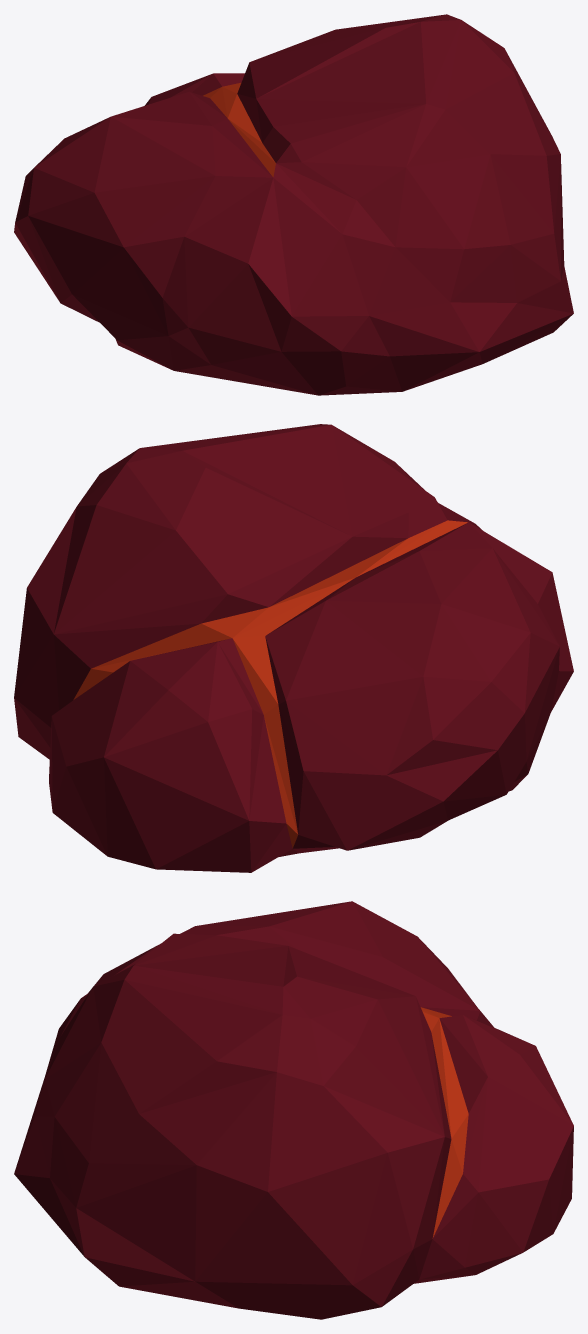
The model's file is goldenOre3-0.fbx.
The picture shows the model from 3 angles, top to bottom: view 1: azimuth 30°, elevation 25°; view 2: azimuth 150°, elevation 25°; view 3: azimuth 270°, elevation 25°; orthographic projection. The views are drawn at different scales.
Parts seen in each view (by area): view 1: Icosphere; view 2: Icosphere; view 3: Icosphere.
Boxes of the visible parts, box(x1,y1,x2,y2) form: Icosphere: box(14, 14, 573, 395); Icosphere: box(14, 424, 573, 872); Icosphere: box(14, 901, 573, 1319).
Bounding box in the file's own units: 212 × 123 × 208.
